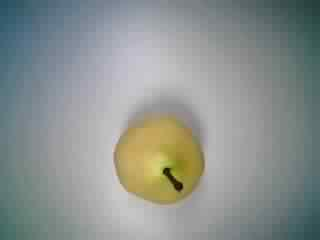pear: (101, 110, 212, 211)
